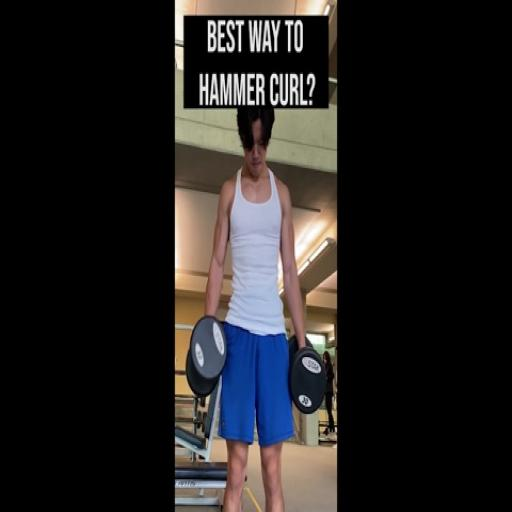exercise: (199, 102, 317, 510)
